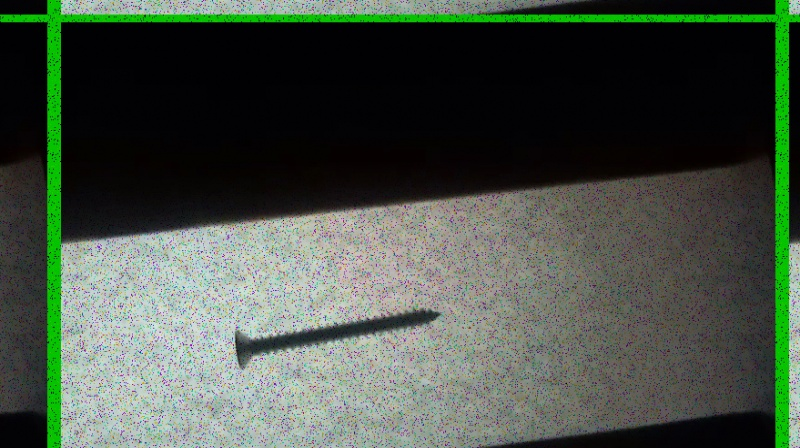S002: (233, 306, 445, 373)
